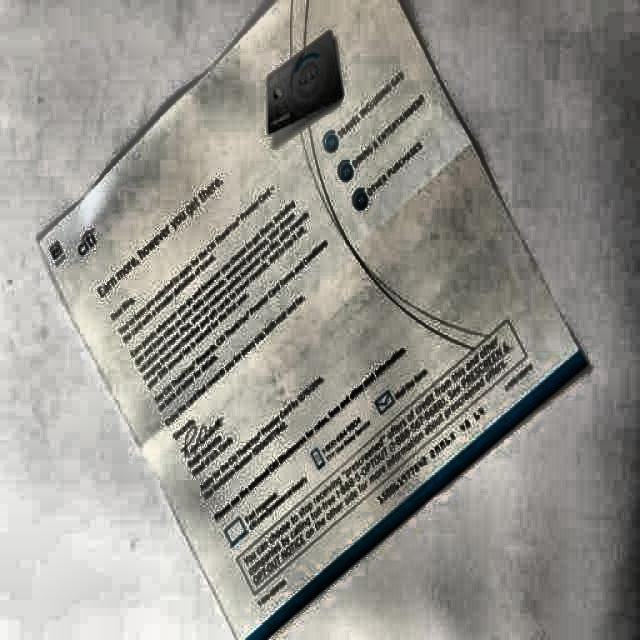Paper: (36, 0, 585, 638)
